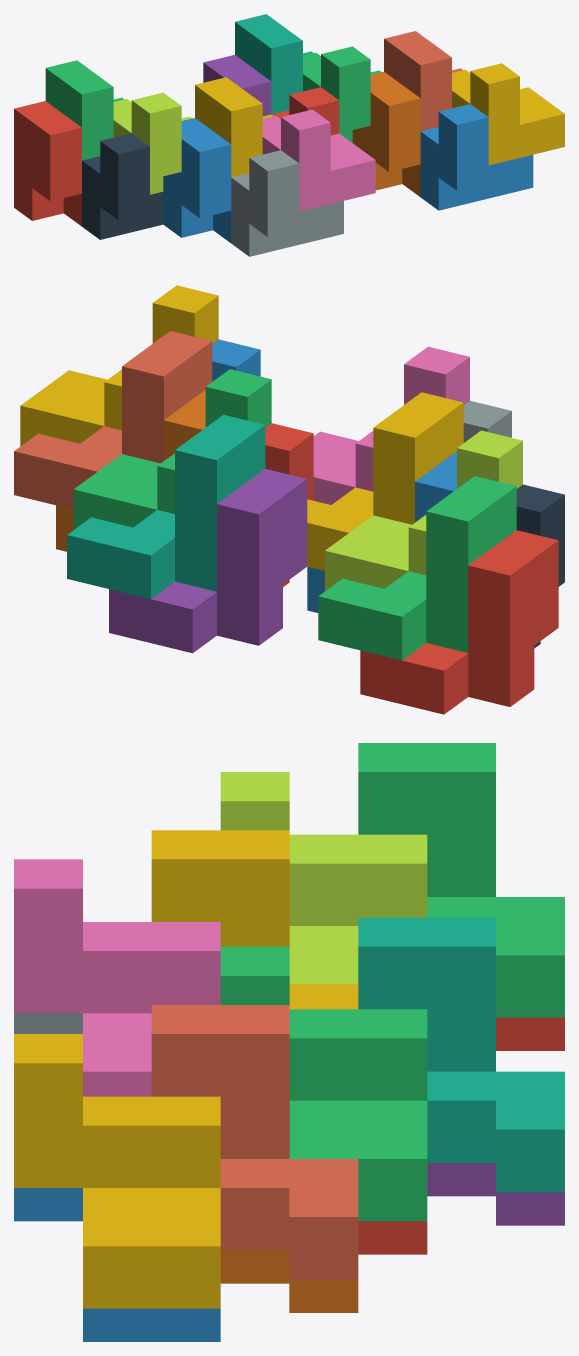
File: tiling.obj
The picture shows the model from 3 angles, top to bottom: view 1: azimuth 30°, elevation 25°; view 2: azimuth 150°, elevation 25°; view 3: azimuth 270°, elevation 25°; orthographic projection. The views are drawn at different scales.
Visible parts, largest first — view 1: copy_2_domain_6, copy_2_domain_2, copy_1_domain_1, copy_2_domain_4, copy_2_domain_8, copy_2_domain_1, copy_1_domain_2, copy_1_domain_6, copy_1_domain_3, copy_1_domain_4, copy_1_domain_7, copy_1_domain_8 (+4 smaller); view 2: copy_1_domain_1, copy_1_domain_5, copy_1_domain_3, copy_1_domain_7, copy_1_domain_8, copy_1_domain_4, copy_2_domain_8, copy_2_domain_7, copy_2_domain_3, copy_2_domain_4, copy_2_domain_1, copy_2_domain_5 (+4 smaller); view 3: copy_2_domain_8, copy_1_domain_8, copy_1_domain_7, copy_2_domain_7, copy_2_domain_4, copy_1_domain_3, copy_2_domain_3, copy_1_domain_4, copy_2_domain_6, copy_1_domain_6, copy_1_domain_5, copy_2_domain_5 (+2 smaller).
Part boxes in pixels (x1,y1,x2,y2): copy_2_domain_6: (420, 104, 533, 210); copy_2_domain_2: (231, 150, 343, 256); copy_1_domain_1: (14, 101, 81, 226); copy_2_domain_4: (262, 109, 375, 211); copy_2_domain_8: (452, 63, 564, 165); copy_2_domain_1: (82, 133, 163, 239); copy_1_domain_2: (163, 118, 231, 243); copy_1_domain_6: (352, 72, 420, 196); copy_1_domain_3: (45, 60, 124, 160); copy_1_domain_4: (195, 77, 273, 177); copy_1_domain_7: (235, 14, 313, 114); copy_1_domain_8: (384, 31, 462, 130); copy_1_domain_1: (360, 530, 558, 714); copy_1_domain_5: (109, 469, 307, 653); copy_1_domain_3: (318, 476, 516, 660); copy_1_domain_7: (67, 414, 265, 599); copy_1_domain_8: (14, 331, 212, 509); copy_1_domain_4: (307, 392, 463, 570); copy_2_domain_8: (20, 285, 218, 446); copy_2_domain_7: (73, 369, 271, 529); copy_2_domain_3: (325, 430, 522, 591); copy_2_domain_4: (313, 346, 469, 504); copy_2_domain_1: (516, 484, 564, 648); copy_2_domain_5: (265, 423, 313, 586); copy_2_domain_8: (14, 1034, 220, 1308); copy_1_domain_8: (151, 1005, 358, 1279); copy_1_domain_7: (358, 917, 564, 1192); copy_2_domain_7: (220, 946, 427, 1221); copy_2_domain_4: (14, 859, 220, 1096); copy_1_domain_3: (358, 743, 564, 1017); copy_2_domain_3: (220, 772, 427, 984); copy_1_domain_4: (151, 830, 358, 1009); copy_2_domain_6: (14, 1188, 220, 1341); copy_1_domain_6: (220, 1250, 358, 1312); copy_1_domain_5: (427, 1163, 564, 1225); copy_2_domain_5: (358, 1221, 427, 1254).
Size of the model in its own units: 14 by 4 by 8.
